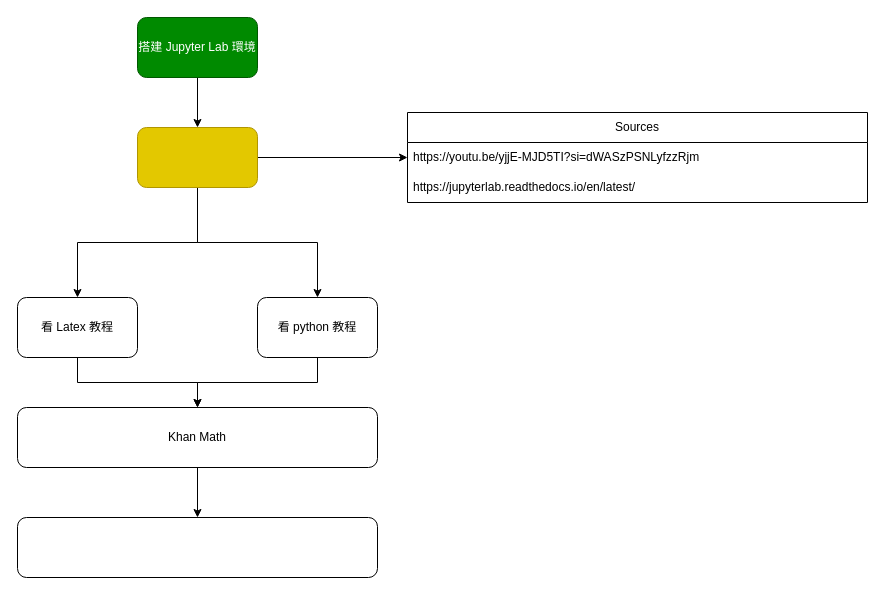
Image size: 885x595. Some labels were removed from this diagram. The shapes that lost their labels are listed below. From the top down, each one's centre as x and y in pixels, then its label:
At pixel 197 157: "看 Jupyter Lab 教程".
At pixel 197 547: "Khan Phycsis".
